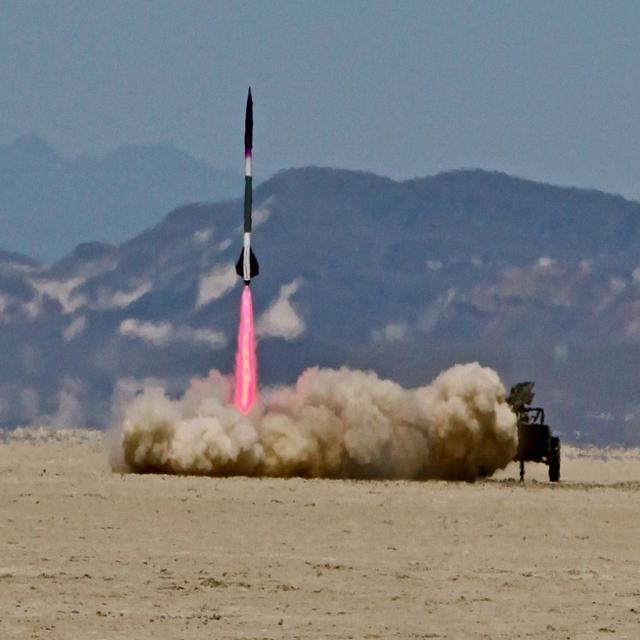rocket: (239, 84, 262, 379)
